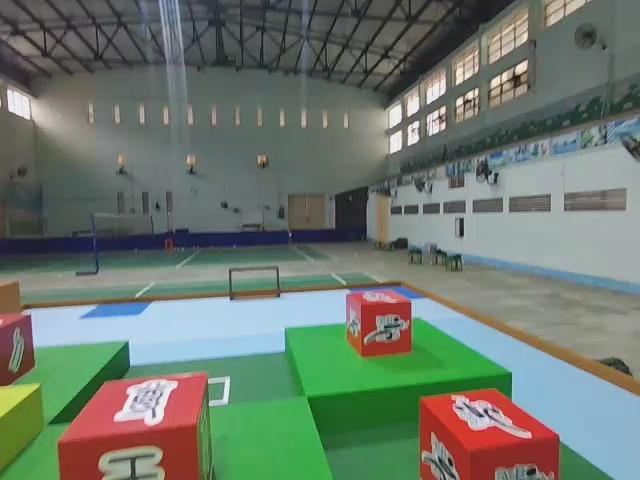R1: (419, 385, 560, 480), (345, 289, 412, 357)
R2 Fake: (59, 370, 213, 480)
R2 Real: (0, 310, 38, 389)
